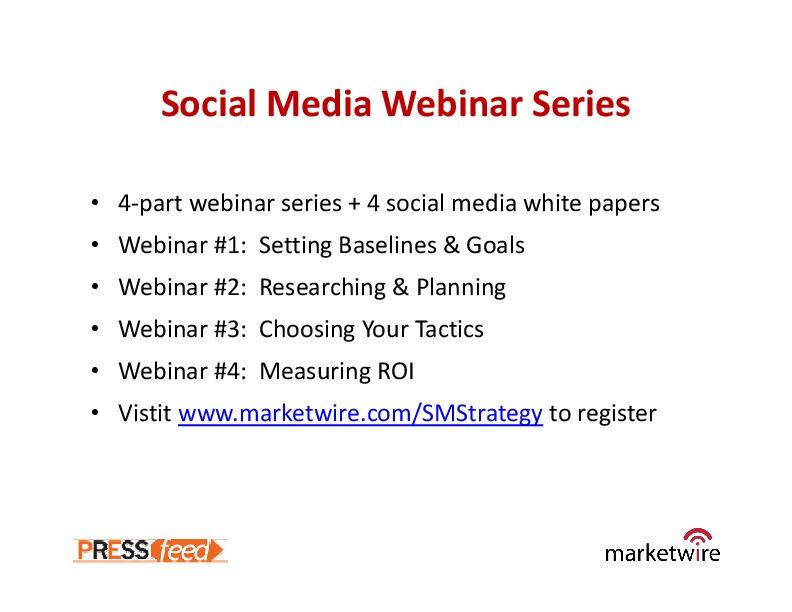paragraph: (80, 176, 714, 455)
title: (150, 76, 640, 128)
